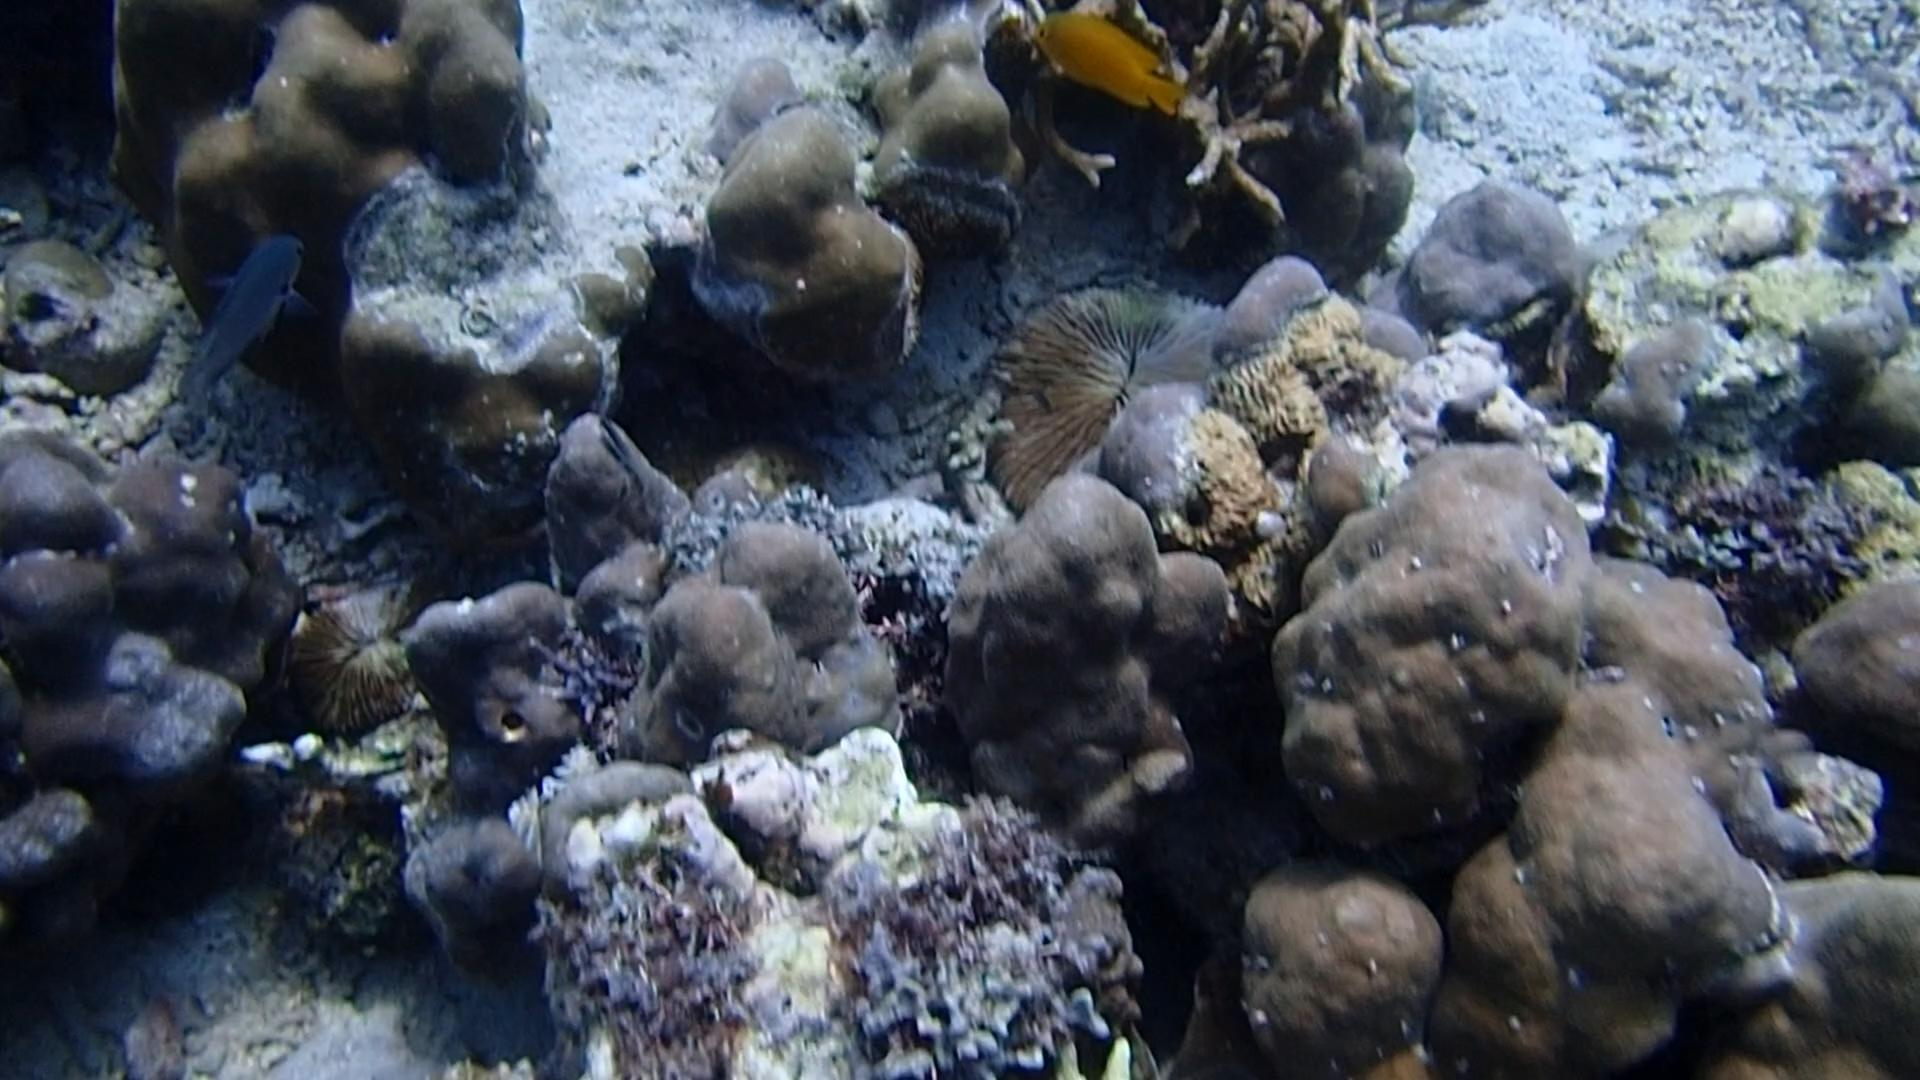Blue Fish Two: (171, 218, 319, 421)
Yellow Fish: (1014, 0, 1196, 121)
